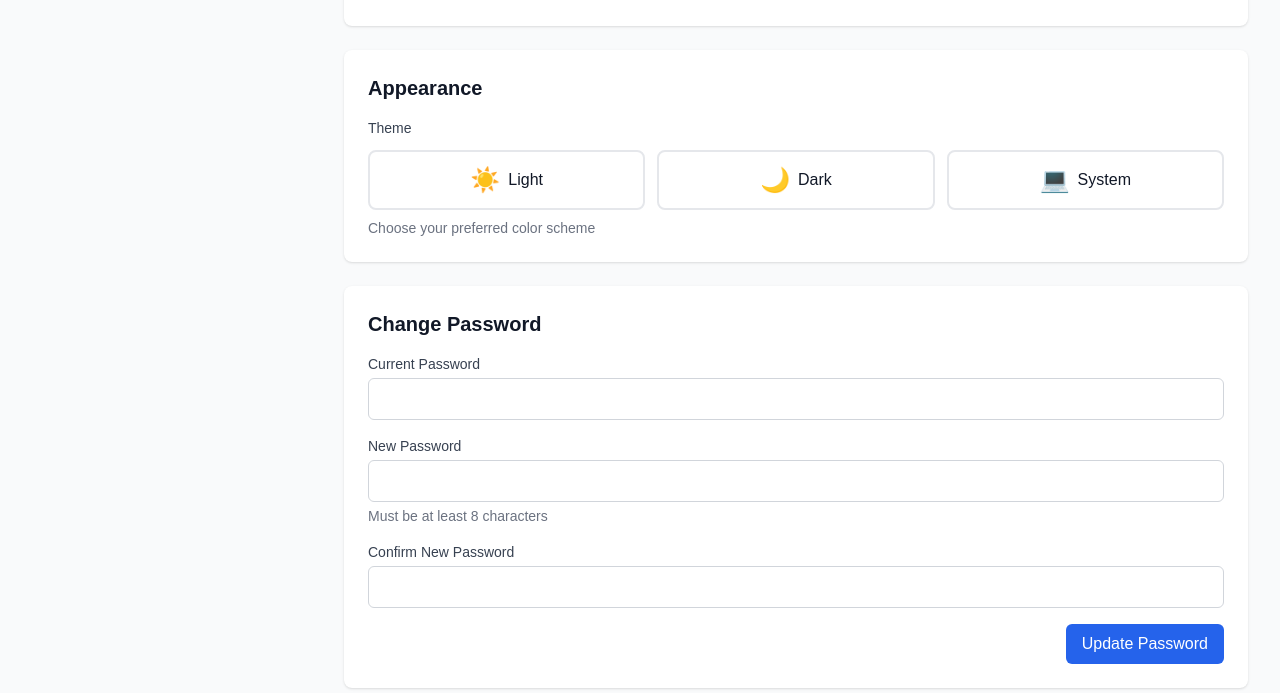
it: Settings Page › successfully updates password
The image size is (1280, 693).
(page scrolled)
Step 1. Type "oldpassword123" into the password field labelled "Current Password" → (796, 399), box [368,378,1224,420]
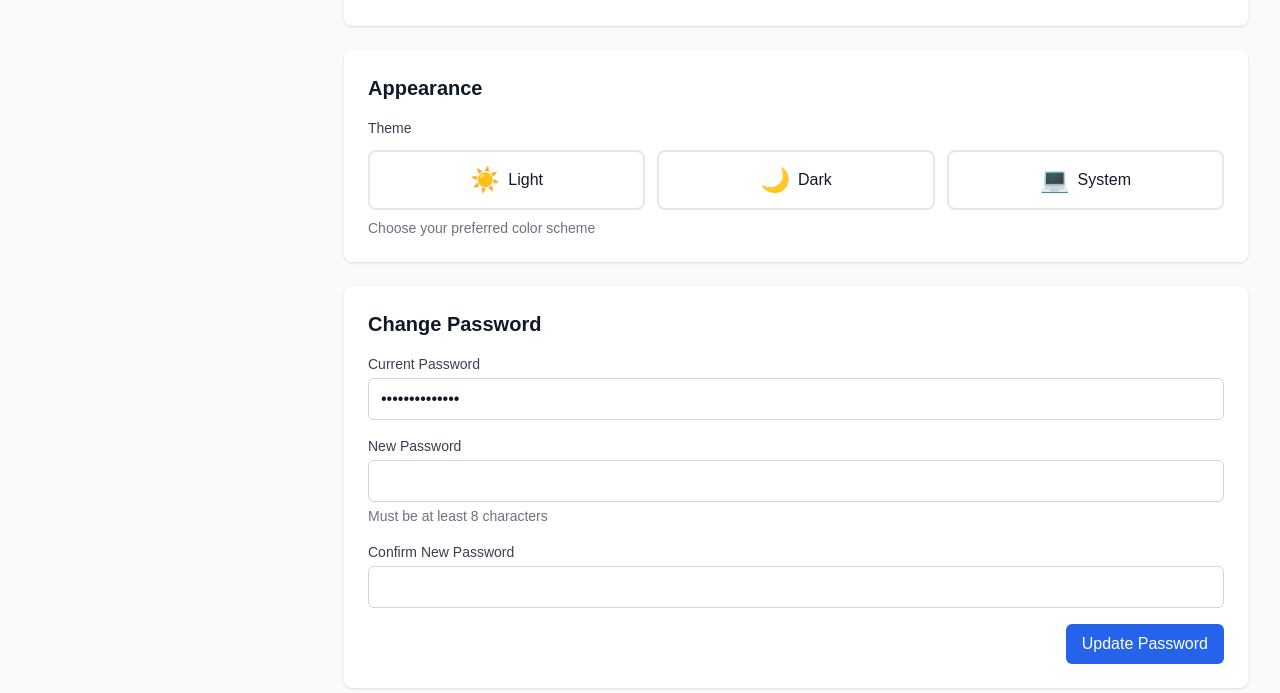
Step 2. Type "newpassword123" into the password field labelled "New Password" → (796, 481), box [368,460,1224,502]
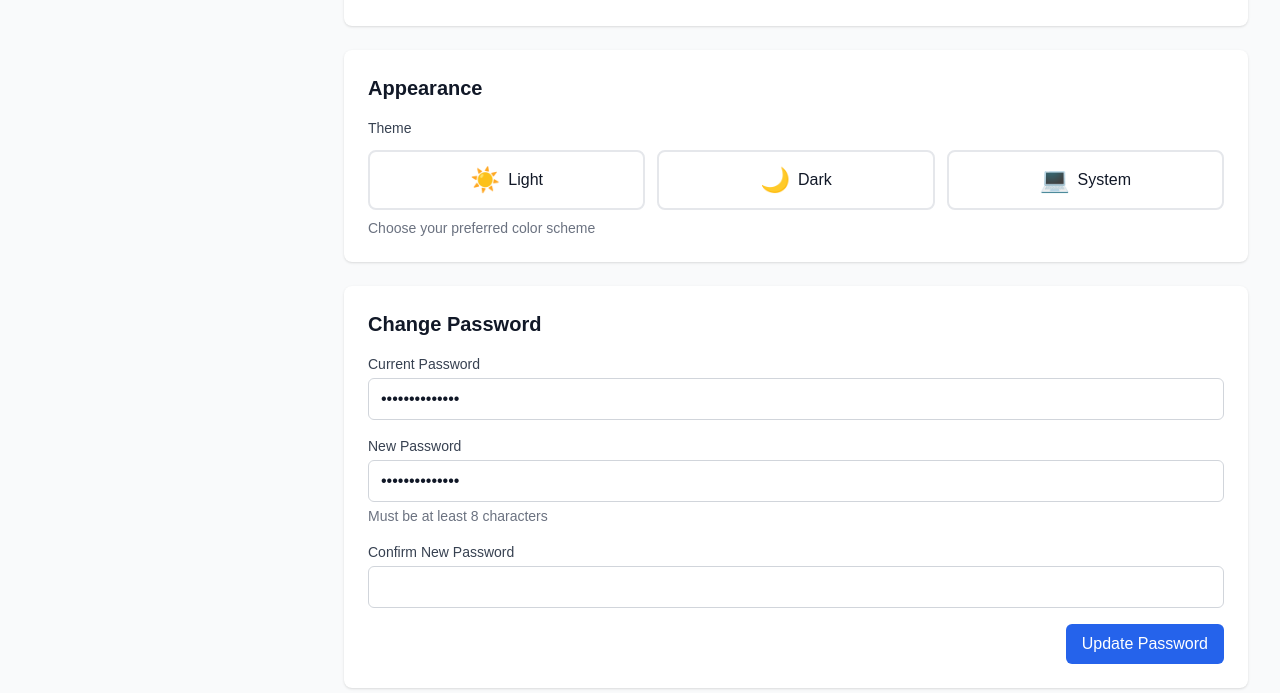
Step 3. Type "newpassword123" into the password field labelled "Confirm New Password" → (796, 587), box [368,566,1224,608]
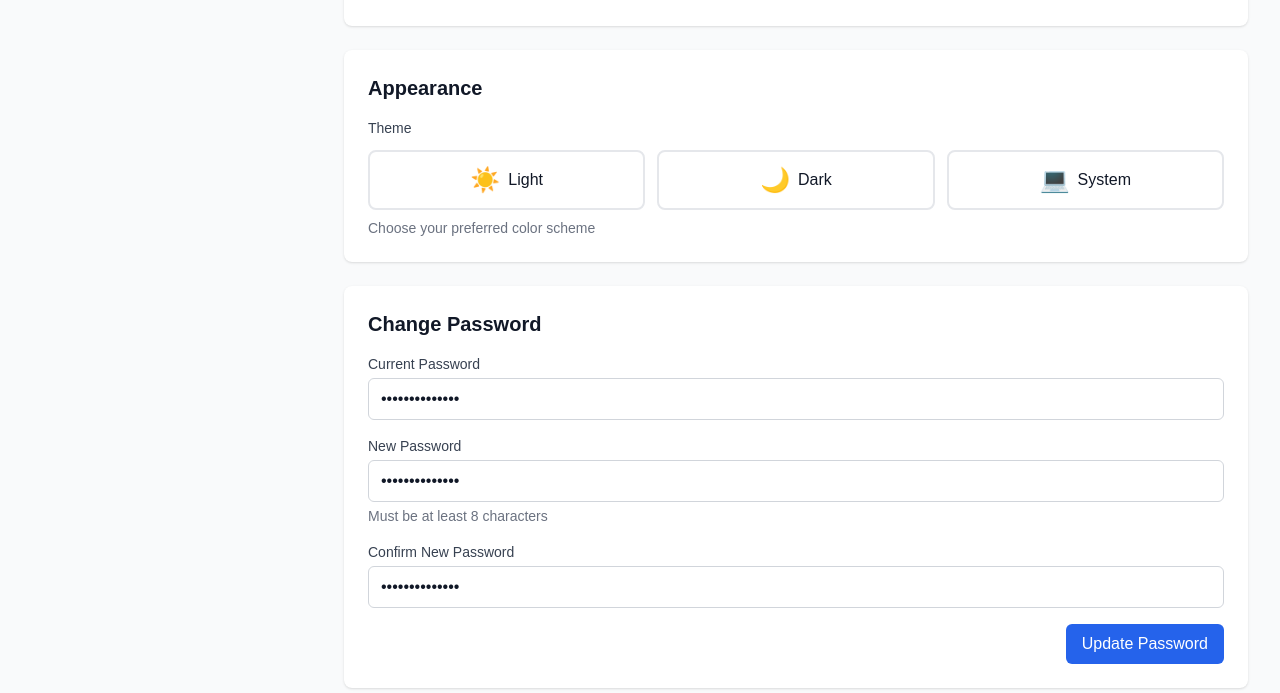
Step 4. Click the button "Update Password" → (1145, 644), box [1066,624,1224,664]
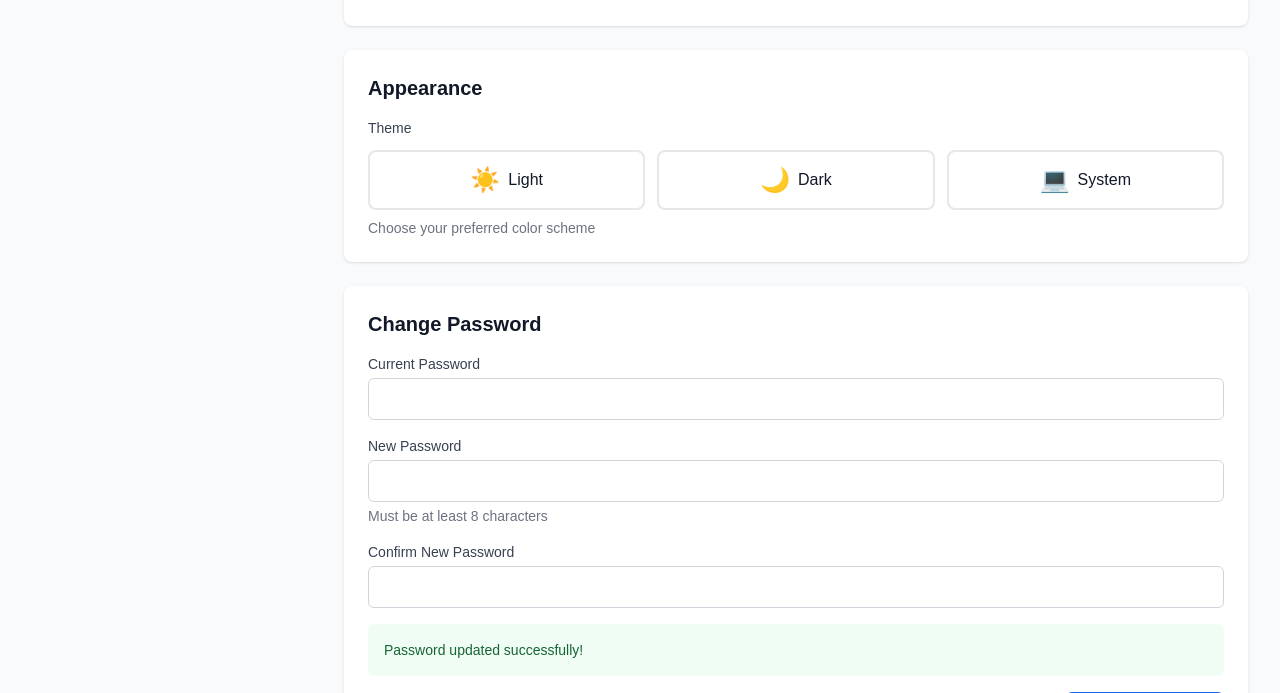
Expected: the text "Password updated successfully!" is shown, [384,642,583,658]
